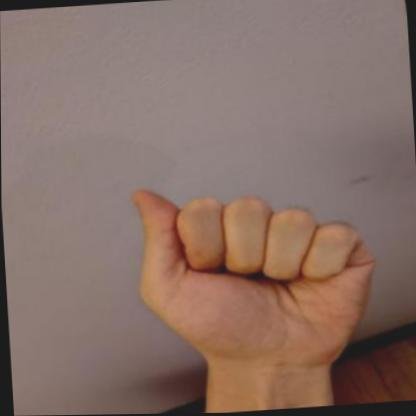A: (116, 149, 396, 411)
